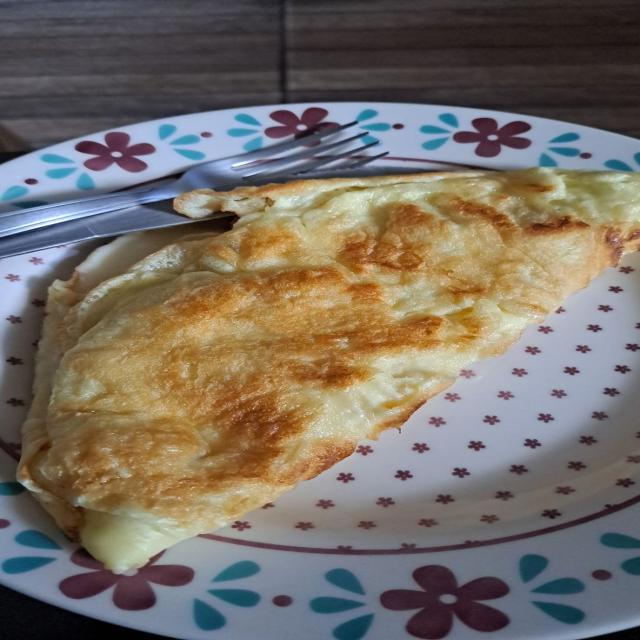omelette: (19, 169, 639, 571)
